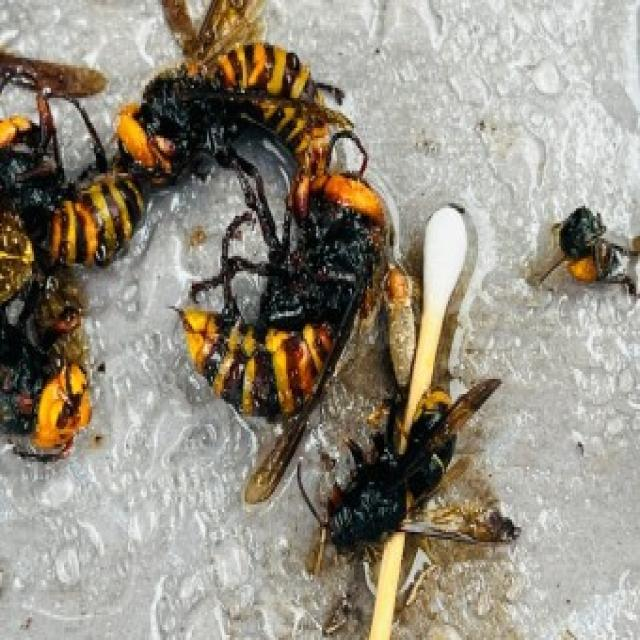Wasp: (184, 149, 390, 448)
